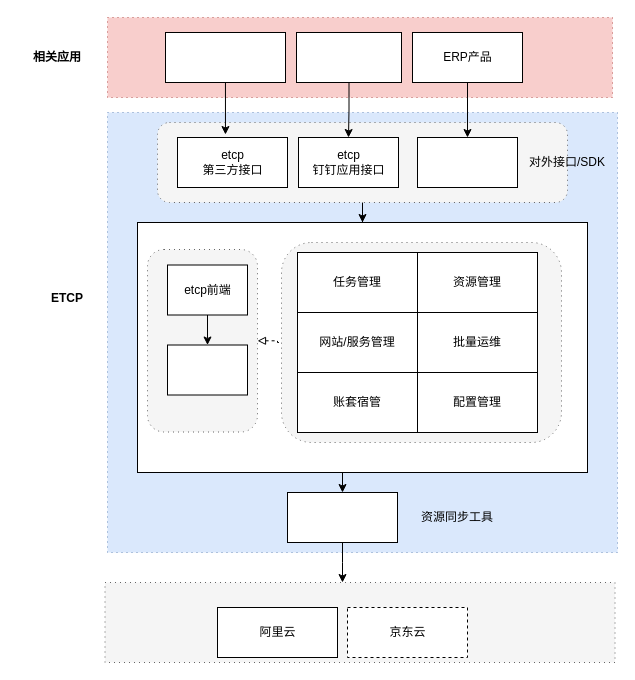
Some shapes in this 635 by 680 pixel diagram are drawn without their labels. Here are the shapes that lost their labels. From the top down, the centre of each, then its label:
(x=225, y=57): 工单系统
(x=349, y=57): 钉钉小程序 （运维工具）
(x=467, y=162): 白名单服务 (SDK)
(x=207, y=369): etcp后端 （内部）接口
(x=342, y=517): ETCPDiscover
